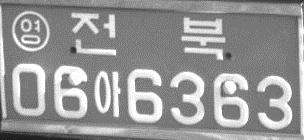0: (10, 63, 46, 117)
3: (254, 74, 293, 131), (169, 70, 205, 125)
6: (212, 71, 250, 128), (126, 68, 164, 124), (53, 64, 88, 119)
아: (92, 70, 123, 117)
영: (10, 9, 50, 52)
전북_D: (70, 11, 226, 60)
